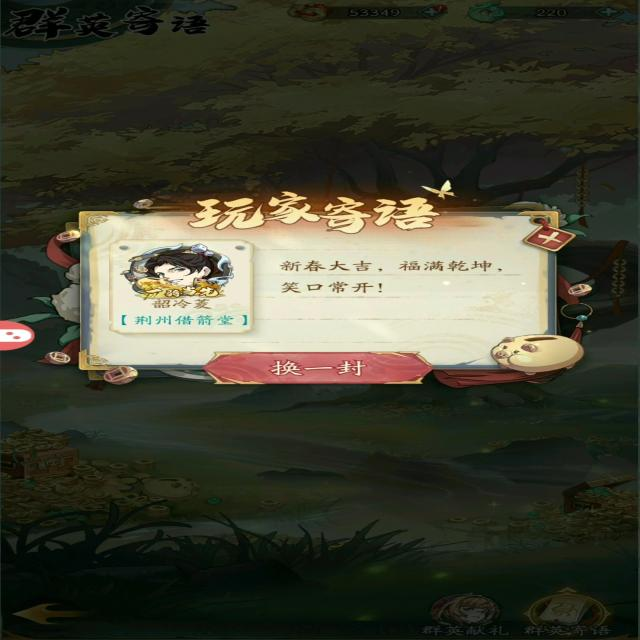operation-close: (502, 219, 575, 247)
operation-enter: (192, 352, 424, 388)
